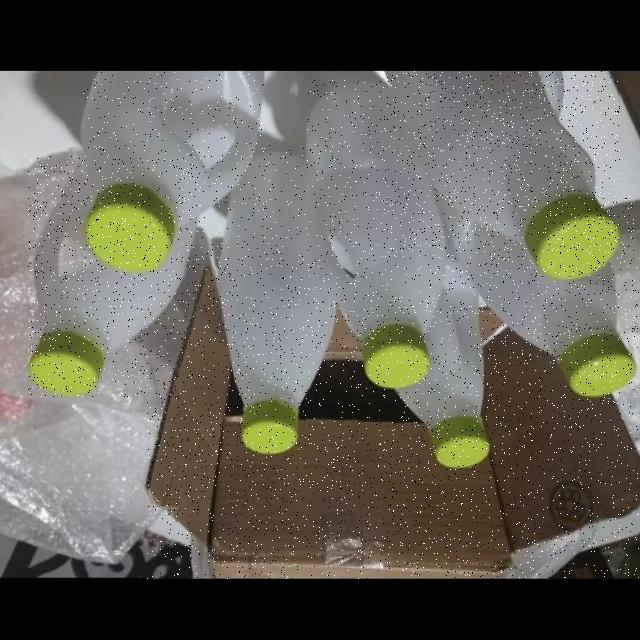paper: (148, 267, 640, 578)
plastic: (385, 71, 620, 279), (307, 80, 447, 387), (29, 156, 201, 397), (438, 196, 635, 394), (216, 145, 336, 454), (81, 72, 264, 271), (397, 253, 490, 467)
